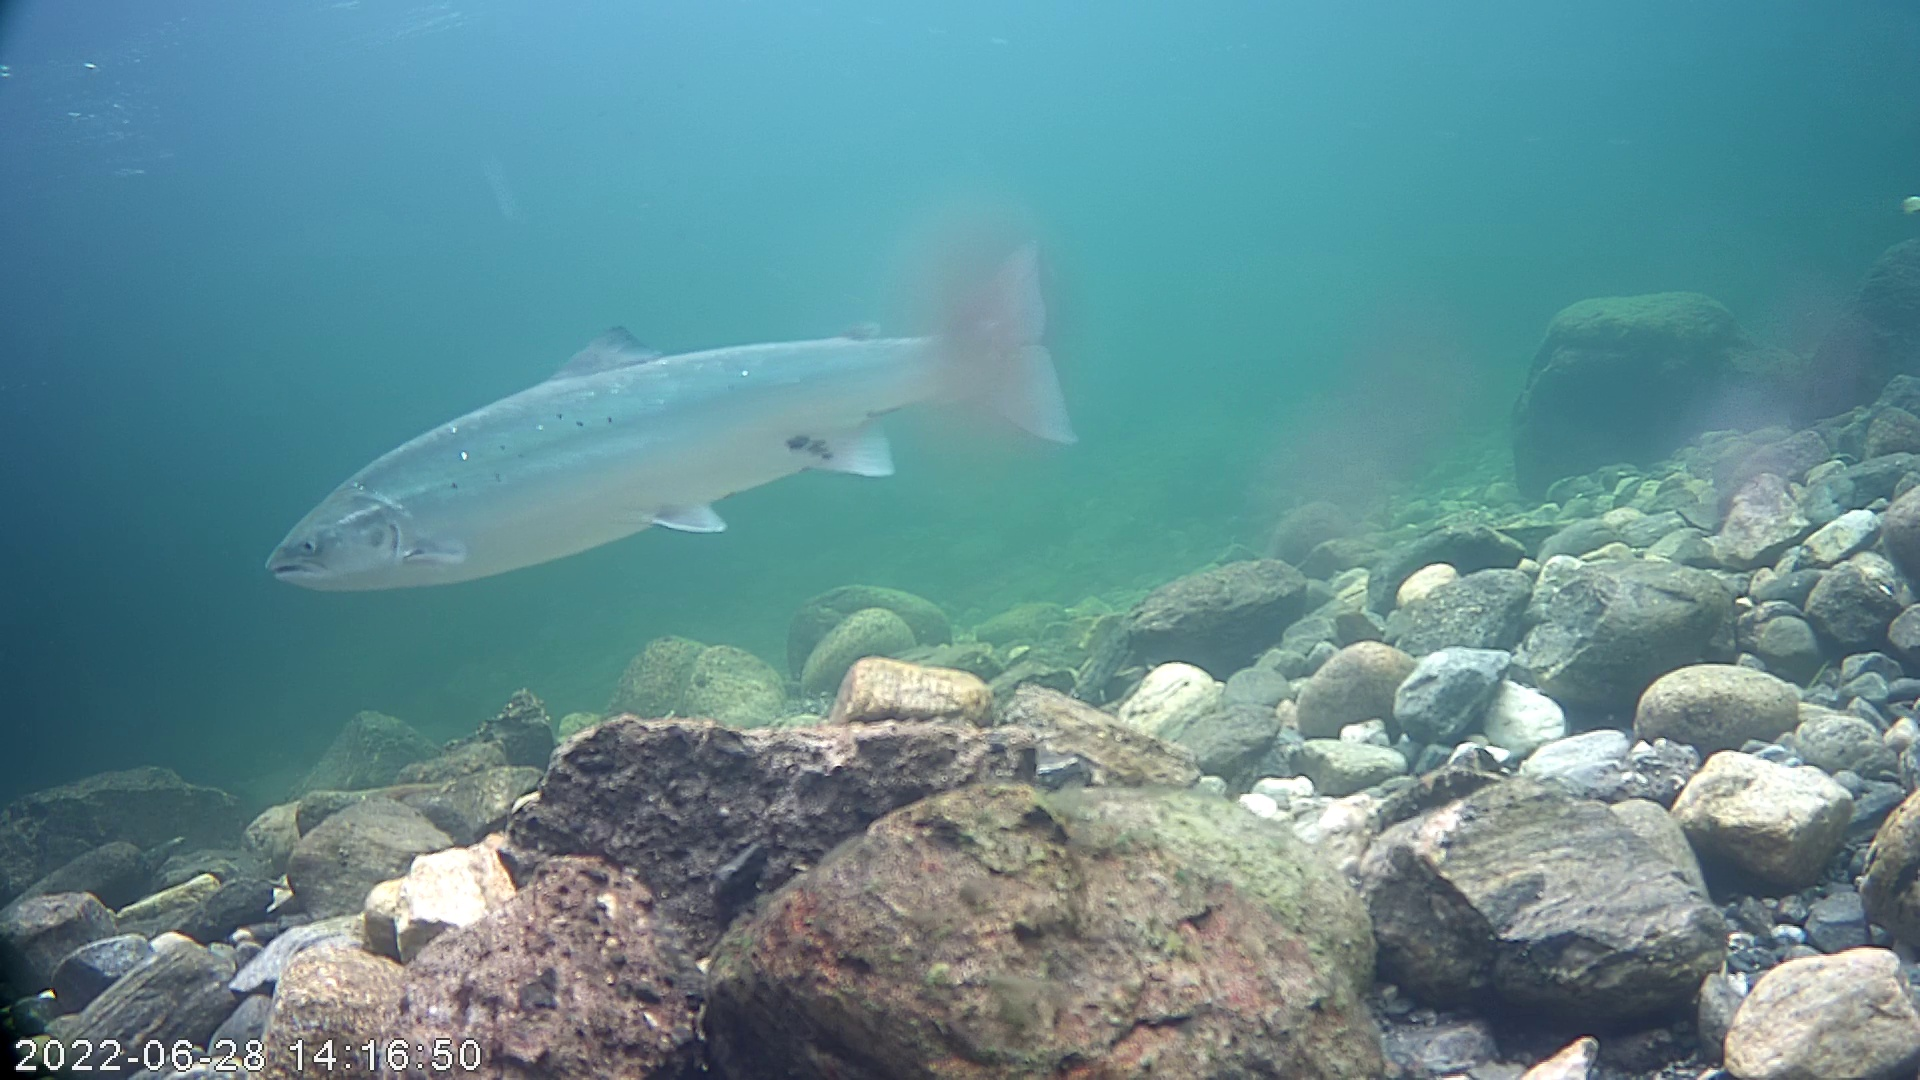salmon: (251, 193, 1100, 622)
